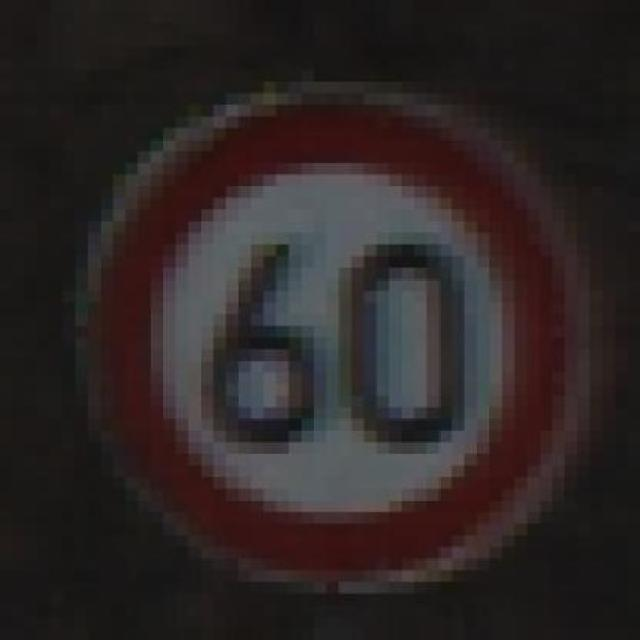forb_speed_over_60: (108, 103, 554, 568)
